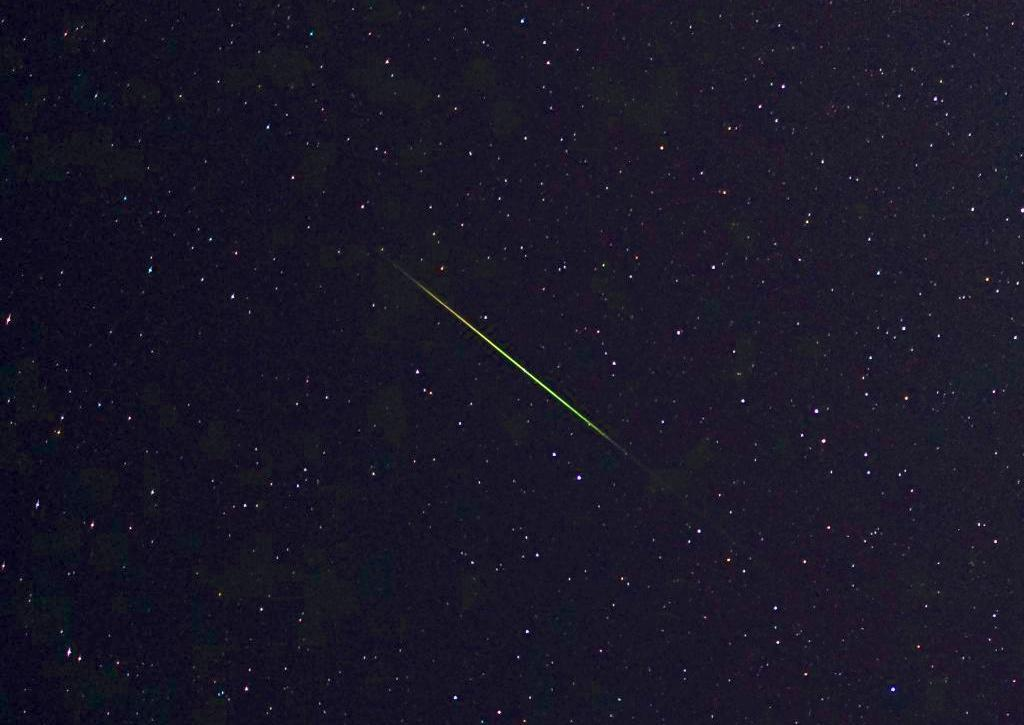meteorite: (452, 275, 673, 501)
